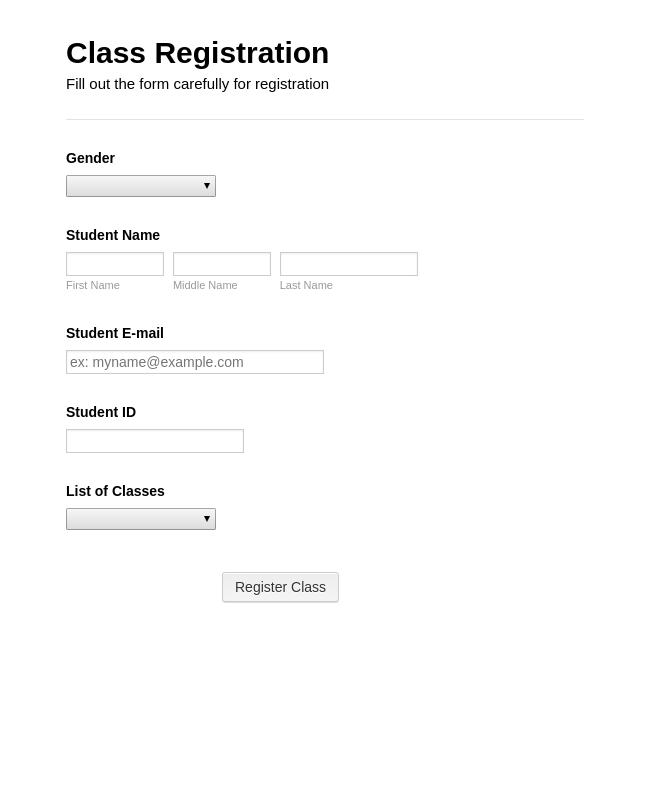button: (221, 568, 346, 607)
dropdown: (61, 501, 226, 542), (60, 168, 226, 205)
textbox: (56, 350, 335, 385), (171, 251, 275, 292)
